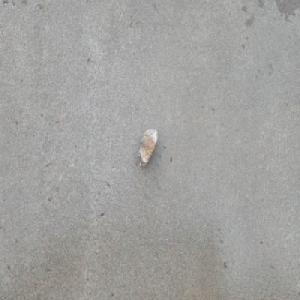Rock: (137, 127, 158, 169)
